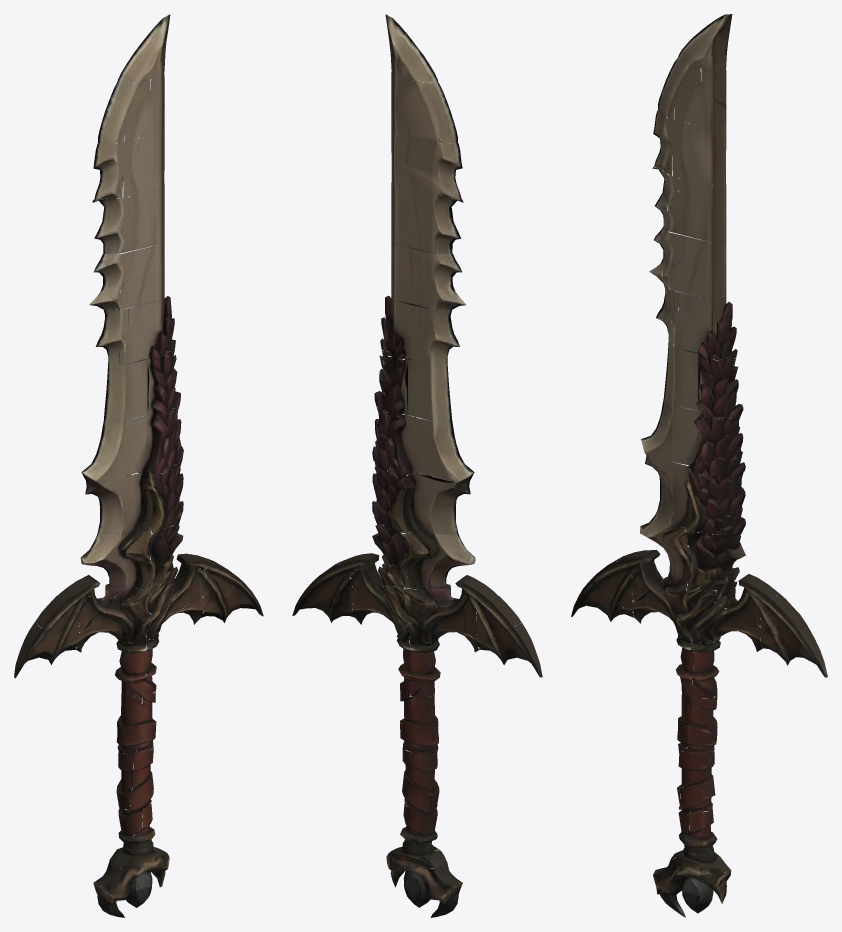
Rendered from wyvern_fang.glb.
3 views of the same model, side by side, from view 1: azimuth 30°, elevation 25°; view 2: azimuth 150°, elevation 25°; view 3: azimuth 330°, elevation 25° (orthographic). The views are drawn at different scales.
Parts seen in each view (by area): view 1: weapon; view 2: weapon; view 3: weapon.
Part boxes in pixels (x1,y1,x2,y2): weapon: (14,14,263,917); weapon: (292,14,542,917); weapon: (571,14,827,917).
Size of the model in its own units: 0.4527 by 1.55 by 0.0983.
1 material, 1 textured.
